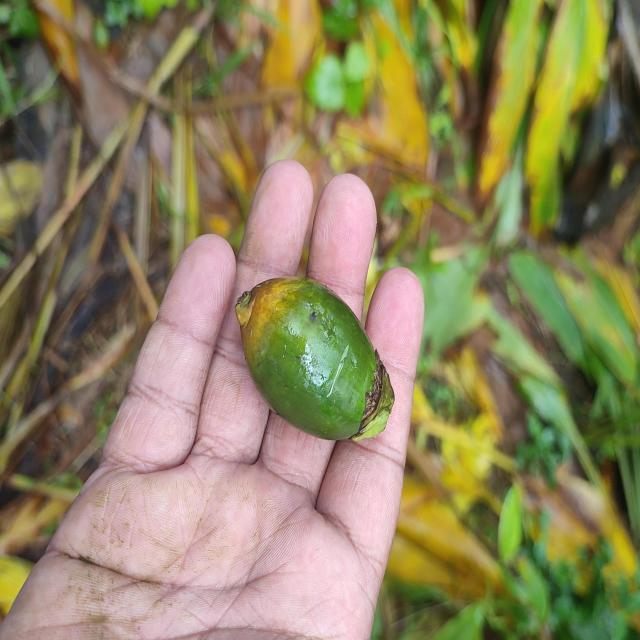good: (233, 278, 394, 443)
